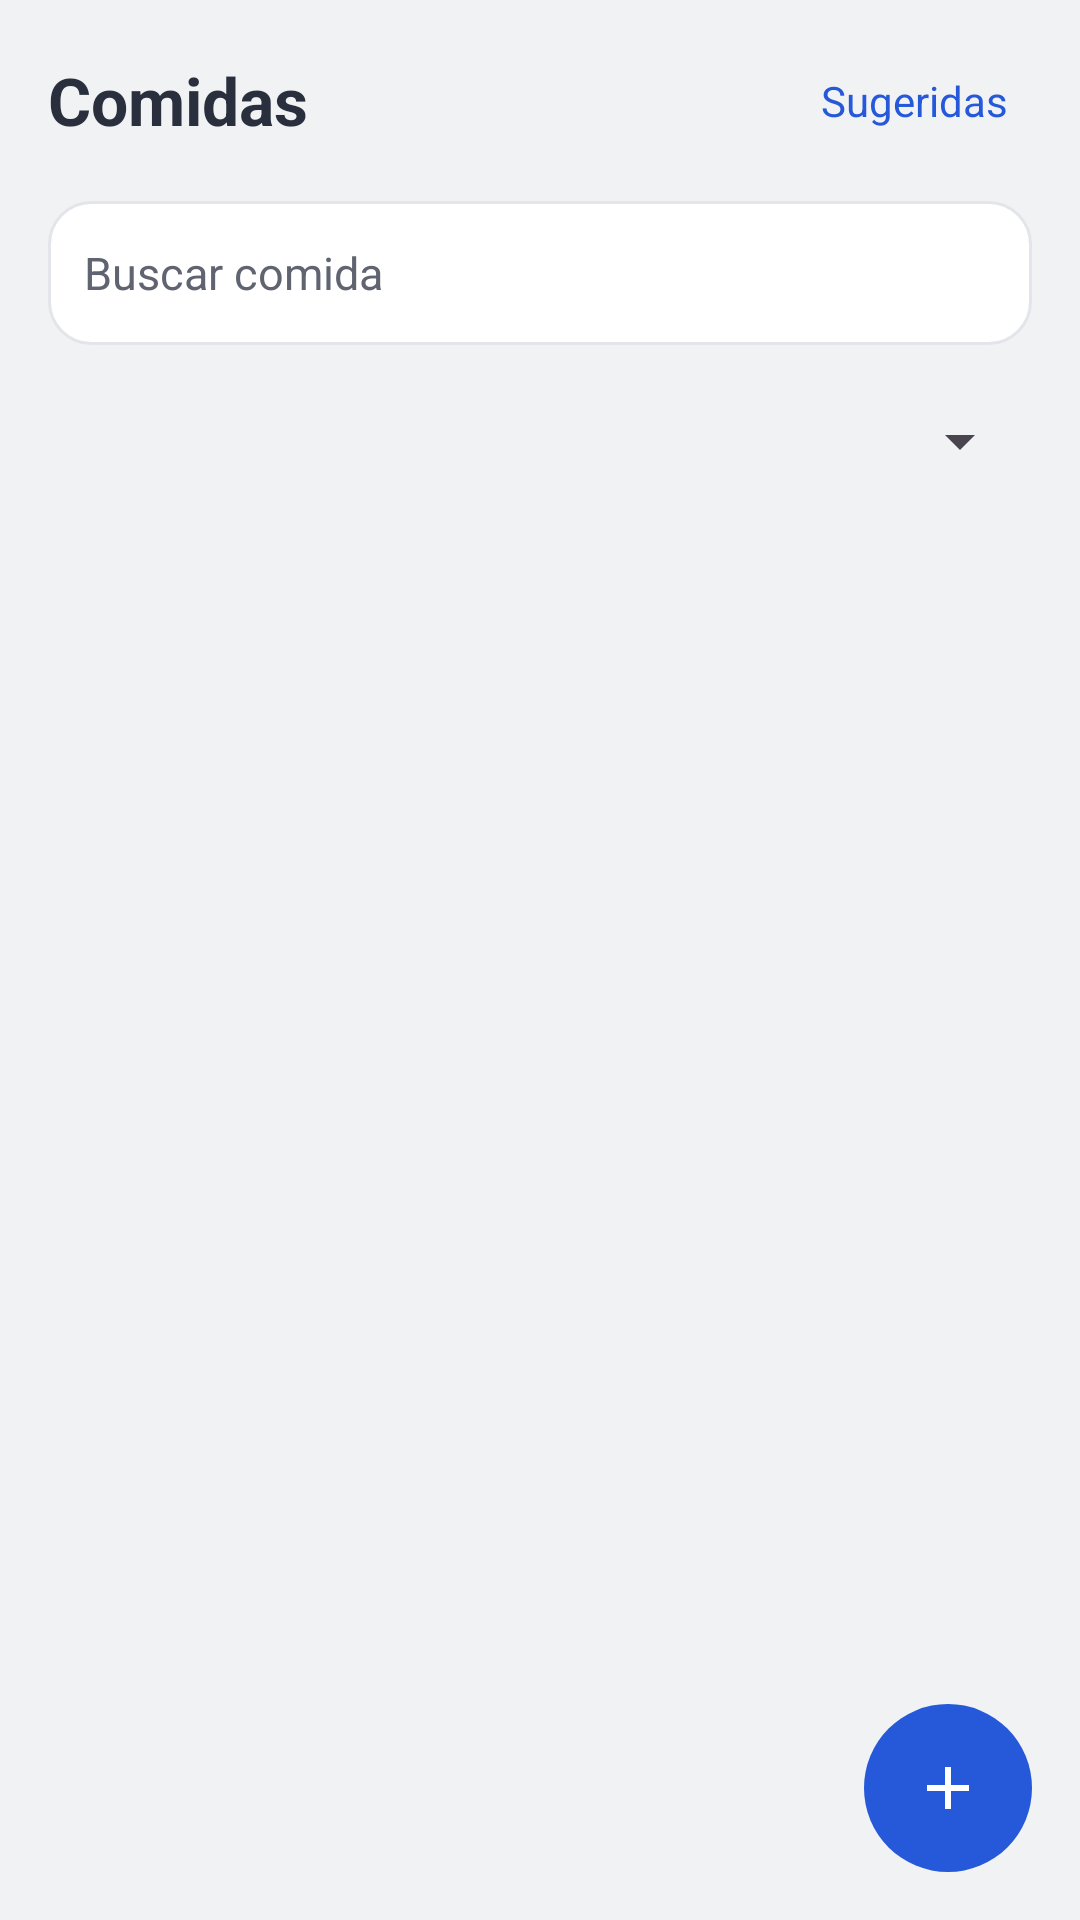

Icons on this 1080 × 1920 Android screen, each with its box as Rect(x1, y1, x2, y2):
Nueva comida: Rect(864, 1704, 1032, 1872)
